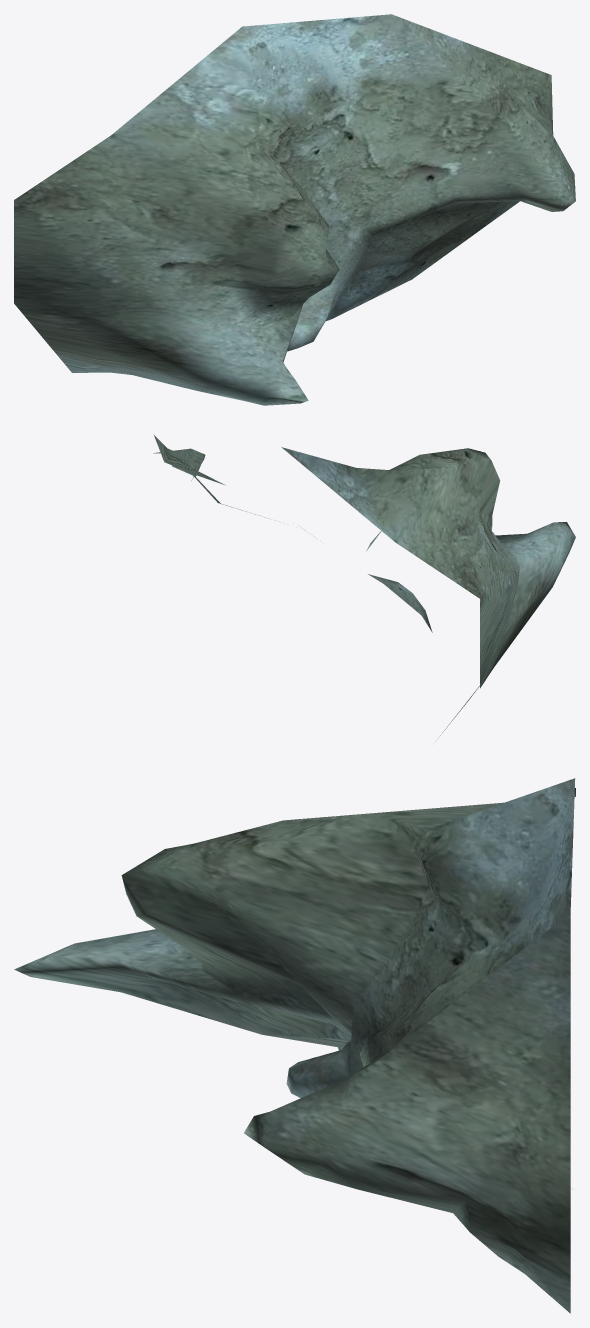
3 renders of one model, top to bottom at view 1: azimuth 30°, elevation 25°; view 2: azimuth 150°, elevation 25°; view 3: azimuth 270°, elevation 25°, orthographic. The views are drawn at different scales.
Visible parts, largest first — view 1: model_Object03; view 2: model_Object03; view 3: model_Object03.
Part boxes in pixels (box(x1,y1,x2,y2)): model_Object03: box(14, 14, 575, 405); model_Object03: box(153, 435, 575, 740); model_Object03: box(14, 778, 575, 1313).
Size of the model in its own units: 3.23 by 1.76 by 2.06.
1 material, 1 textured.
